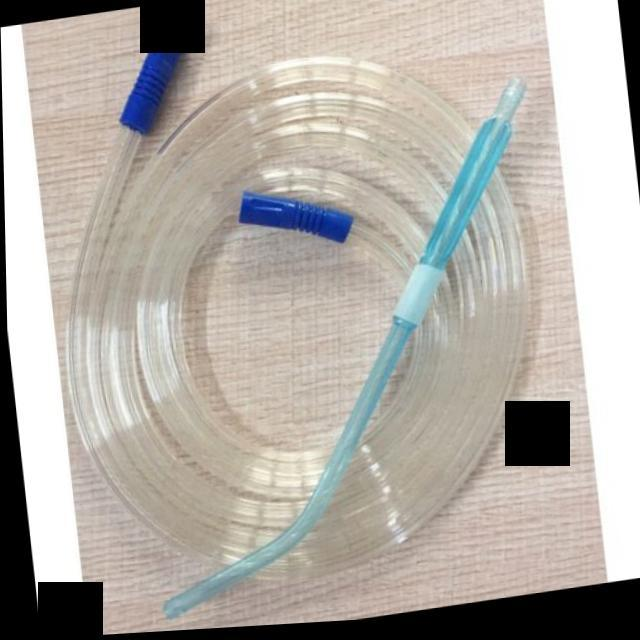Suction Tube Nozzle: (22, 0, 582, 636)
